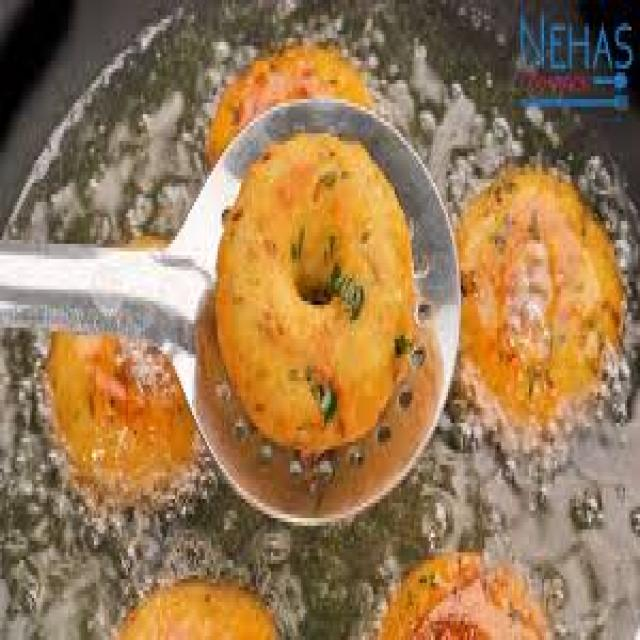MEDU VADA: (216, 132, 414, 458)
